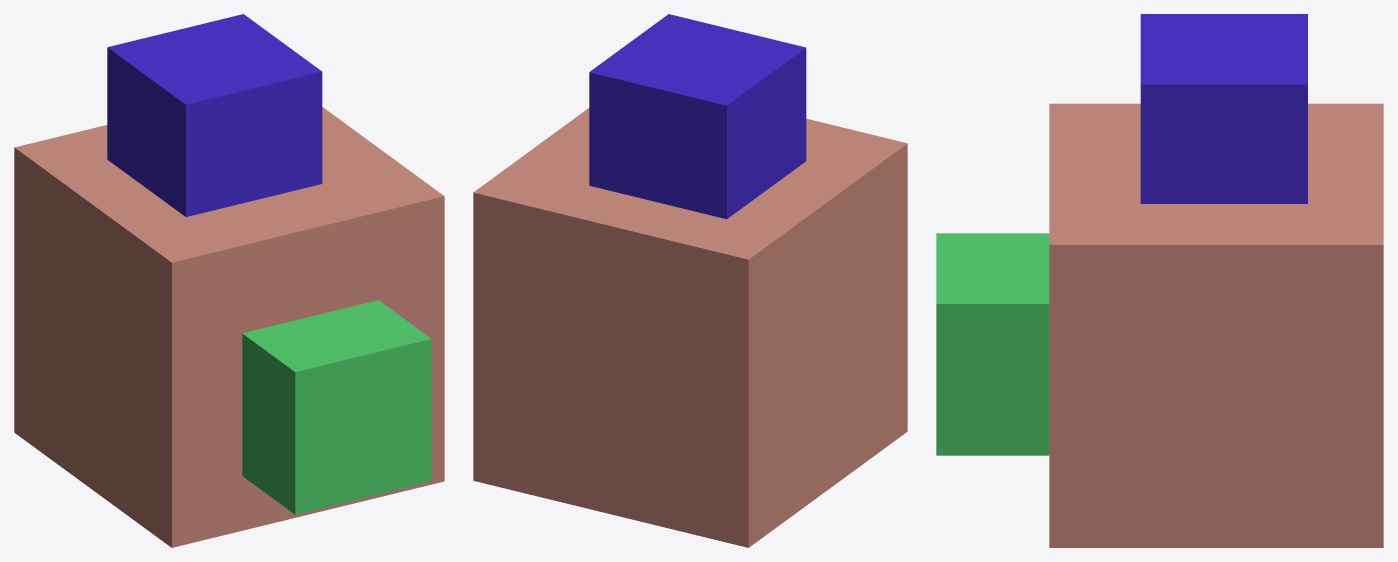
File: cubes.dae
3 views of the same model, side by side, from view 1: azimuth 30°, elevation 25°; view 2: azimuth 150°, elevation 25°; view 3: azimuth 270°, elevation 25° (orthographic). The views are drawn at different scales.
Parts seen in each view (by area): view 1: Cube_001, Cube; view 2: Cube_001; view 3: Cube_001, Cube.
Boxes of the visible parts, x1=… form: Cube_001: x1=14, y1=14, x2=444, y2=547; Cube: x1=242, y1=300, x2=431, y2=514; Cube_001: x1=473, y1=14, x2=907, y2=547; Cube_001: x1=1049, y1=14, x2=1383, y2=547; Cube: x1=936, y1=233, x2=1049, y2=455.
Bounding box in the file's own units: 2 × 2.67 × 2.79.
